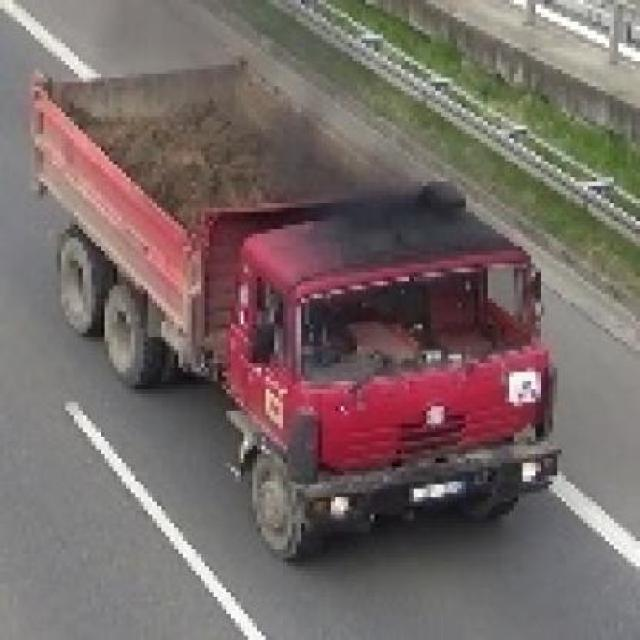truck: (26, 62, 559, 563)
